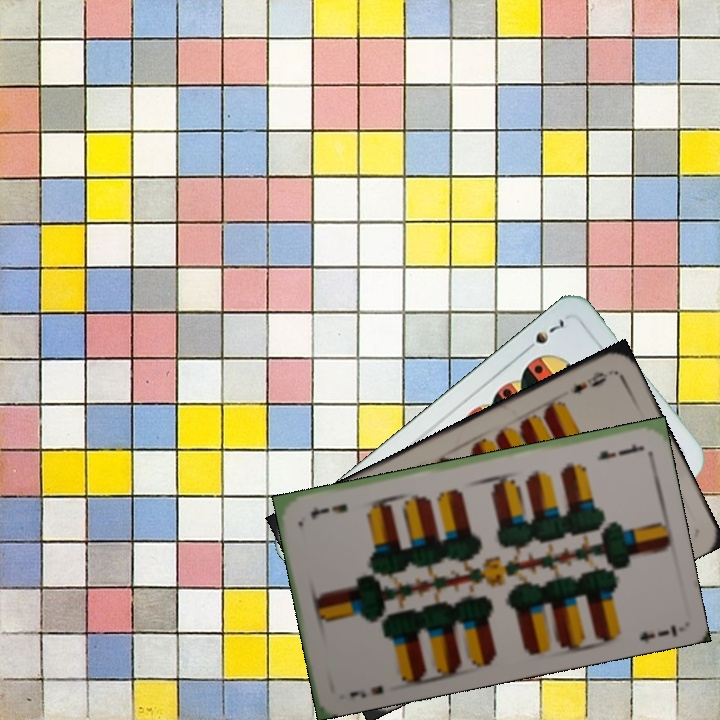E7: (593, 440, 644, 463), (345, 681, 386, 701)
E9: (569, 367, 610, 397)
S7: (519, 315, 567, 356)
